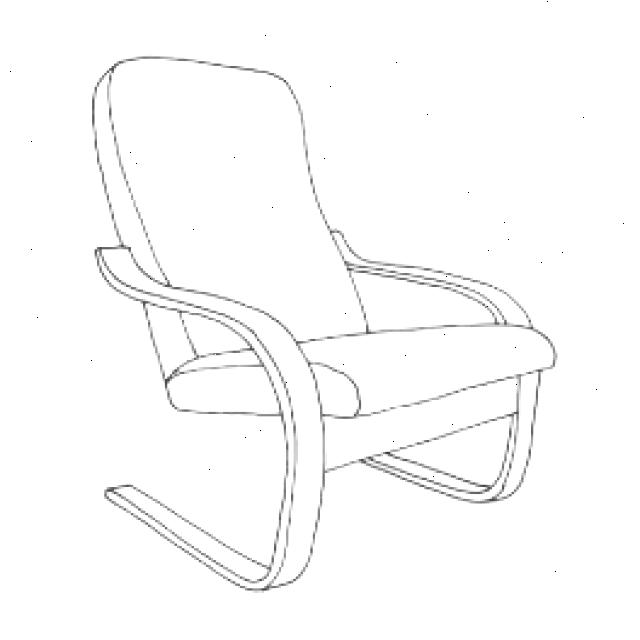Armrest: (88, 244, 330, 417), (325, 228, 538, 330)
Backrest: (85, 54, 375, 390)
Leg_Structure: (91, 363, 546, 596)
Seat: (160, 321, 560, 422)
